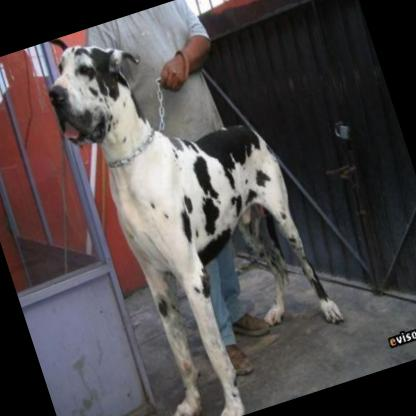Great_Dane: (35, 0, 360, 416)
